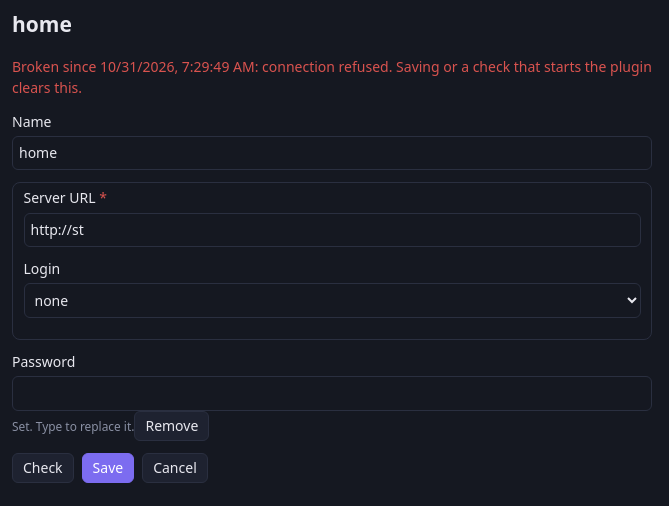
Test: discard puts back the saved values
Replace the text in the field labelled "Server URL" with "http://other" at (332, 230), box [24,213,640,247]
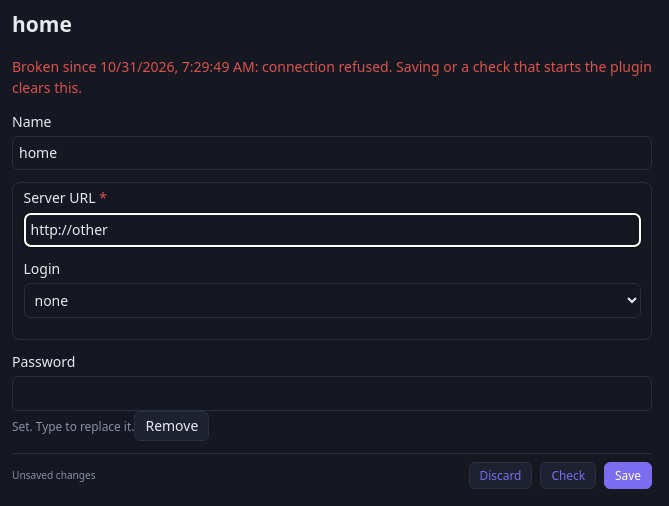
Click the button with aria-label "Remove password" at (172, 426), box [134,411,209,441]
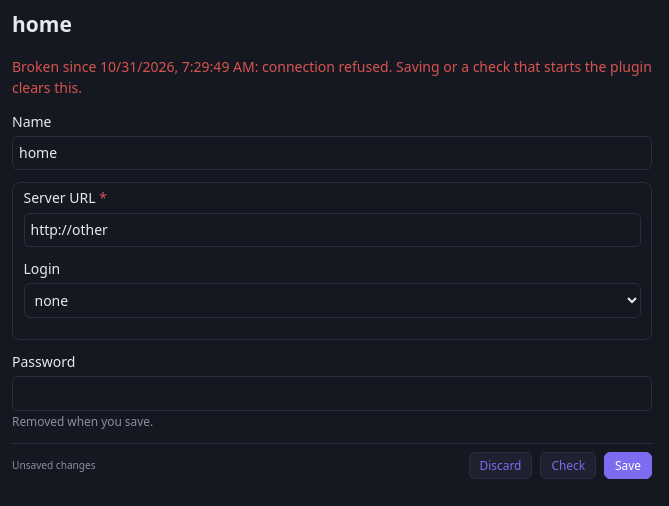
Click the button "Discard" at (500, 466), box [469,452,532,479]
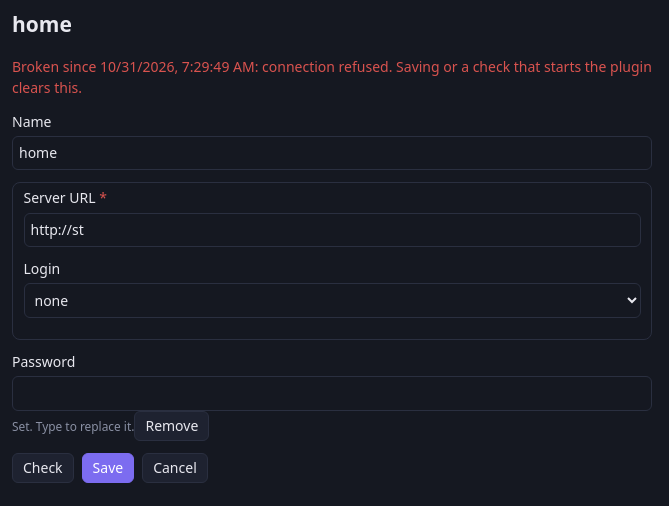
Result: the field labelled "Server URL" holds "http://st" at [24,213,640,247]
Result: the text "Set. Type to replace it." is shown at [12,418,134,434]
Result: the text "Unsaved changes" is gone
